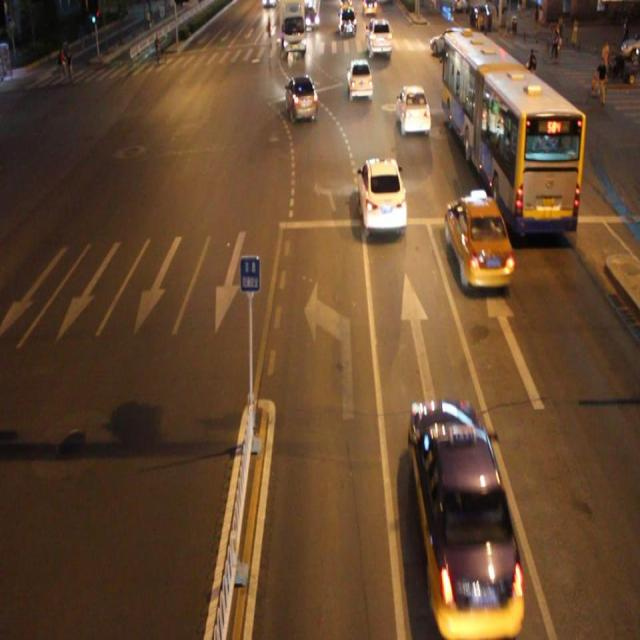car: (410, 397, 524, 620), (444, 196, 512, 289), (358, 155, 405, 231), (396, 86, 429, 137), (286, 74, 318, 124), (345, 58, 374, 102)
van: (442, 30, 577, 234)
